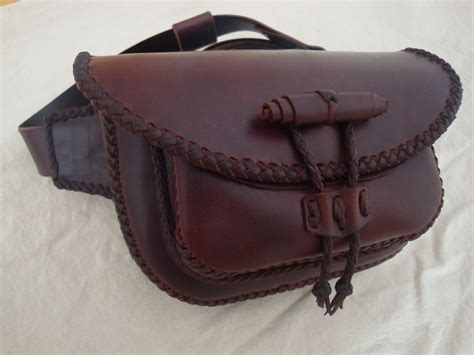cuero: (71, 48, 463, 308)
